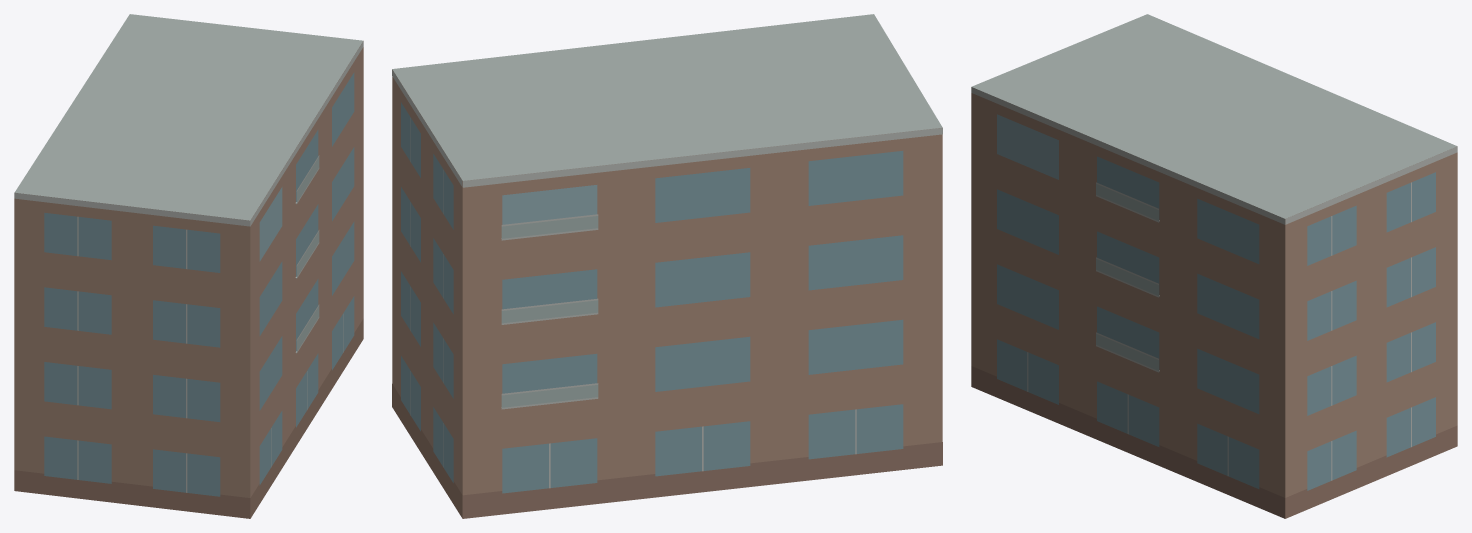
The model's file is survey-upis-32693061.glb.
The picture shows the model from 3 angles, left to right: view 1: azimuth 30°, elevation 25°; view 2: azimuth 150°, elevation 25°; view 3: azimuth 270°, elevation 25°; orthographic projection. The views are drawn at different scales.
Parts seen in each view (by area): view 1: survey-upis-32693061.tmp; view 2: survey-upis-32693061.tmp; view 3: survey-upis-32693061.tmp.
Boxes of the visible parts, x1,y1,x2,y2 form: survey-upis-32693061.tmp: [14, 14, 363, 518]; survey-upis-32693061.tmp: [392, 14, 942, 518]; survey-upis-32693061.tmp: [971, 14, 1457, 518].
Size of the model in its own units: 17.88 by 12.2 by 17.94.
